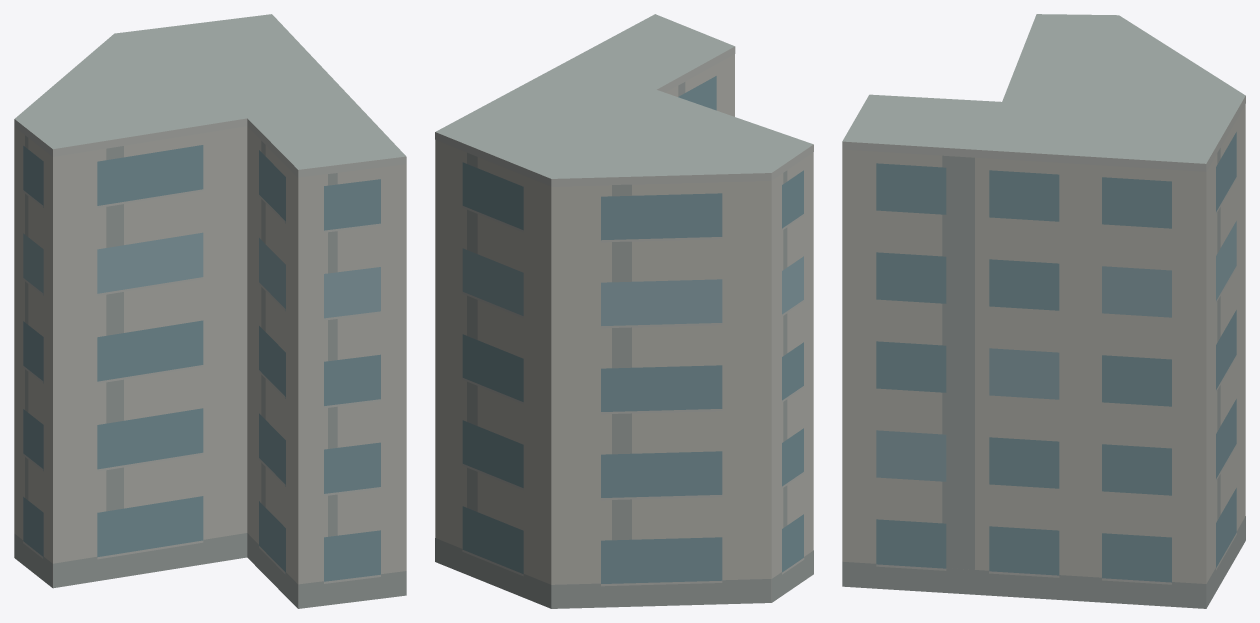
File: survey-upis-32564692.glb
3 renders of one model, left to right at view 1: azimuth 30°, elevation 25°; view 2: azimuth 150°, elevation 25°; view 3: azimuth 270°, elevation 25°, orthographic. The views are drawn at different scales.
Visible parts, largest first — view 1: survey-upis-32564692.tmp; view 2: survey-upis-32564692.tmp; view 3: survey-upis-32564692.tmp.
Part boxes in pixels (<box>): survey-upis-32564692.tmp: <box>14,14,406,608</box>; survey-upis-32564692.tmp: <box>435,14,813,608</box>; survey-upis-32564692.tmp: <box>842,14,1245,608</box>.
Bounding box in the file's own units: 9.76 × 13.5 × 11.11.
